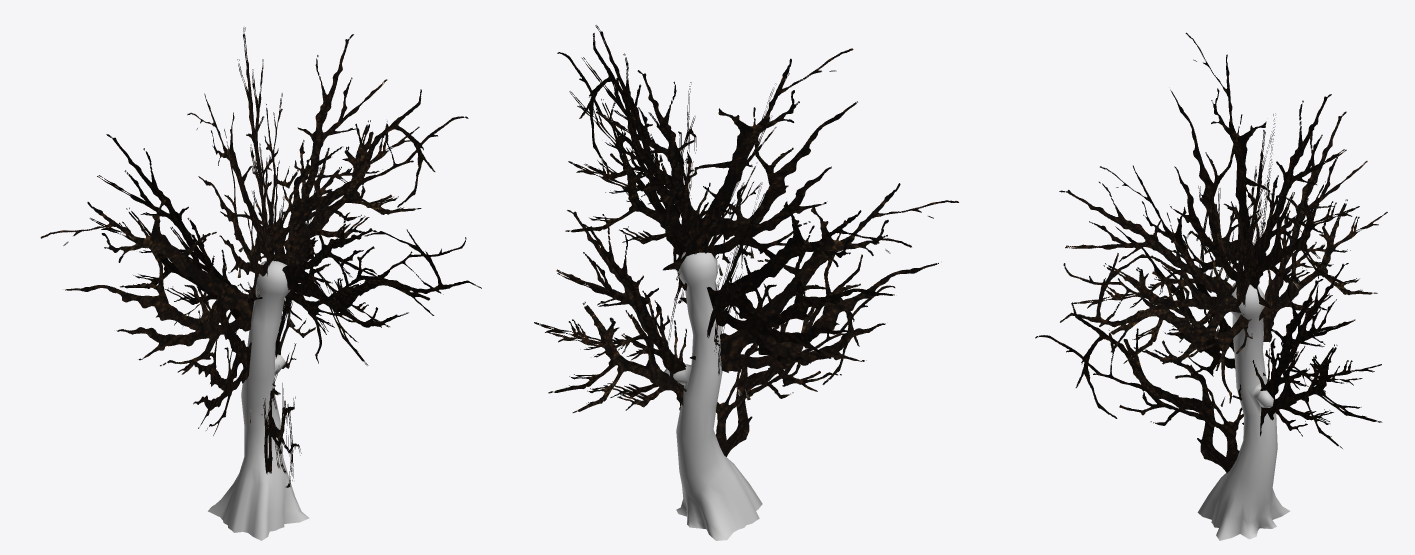
File: tree.fbx
3 renders of one model, left to right at view 1: azimuth 30°, elevation 25°; view 2: azimuth 150°, elevation 25°; view 3: azimuth 270°, elevation 25°, orthographic. The views are drawn at different scales.
Visible parts, largest first — view 1: Plane_144; view 2: Plane_144; view 3: Plane_144.
Part boxes in pixels (x1,y1,x2,y2): Plane_144: [40, 27, 481, 540]; Plane_144: [534, 25, 958, 540]; Plane_144: [1035, 32, 1387, 540].
Bounding box in the file's own units: 4.66 × 4.86 × 3.71.
